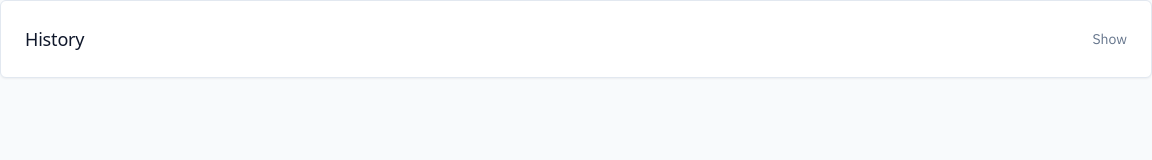
ActualHistory › collapsed by default; clicking the header opens
Expected: the text "No history events yet." is not shown
Click the button with test id "actual-history-toggle" at (55, 39), box [25,25,1127,53]
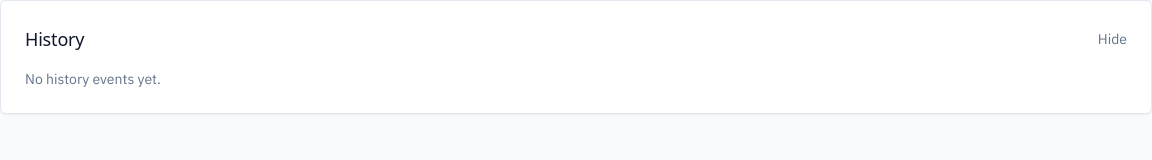
Expected: the text "No history events yet." is shown, [25,70,161,88]
